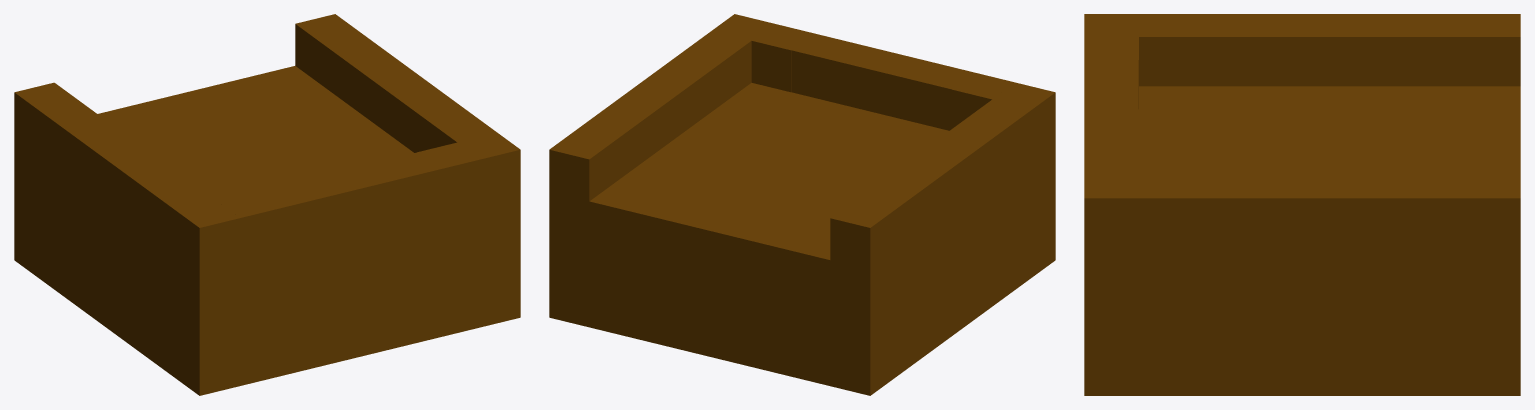
Rendered from golf1.fx.fbx.
The picture shows the model from 3 angles, left to right: view 1: azimuth 30°, elevation 25°; view 2: azimuth 150°, elevation 25°; view 3: azimuth 270°, elevation 25°; orthographic projection. The views are drawn at different scales.
Parts seen in each view (by area): view 1: Cube, Cube.001; view 2: Cube, Cube.001; view 3: Cube, Cube.001.
Part boxes in pixels (x1,y1,x2,y2): Cube: [14, 14, 520, 395]; Cube.001: [98, 66, 480, 259]; Cube: [549, 14, 1055, 395]; Cube.001: [592, 24, 1015, 259]; Cube: [1084, 14, 1520, 395]; Cube.001: [1084, 37, 1520, 175].
Bounding box in the file's own units: 200 × 100 × 200.
